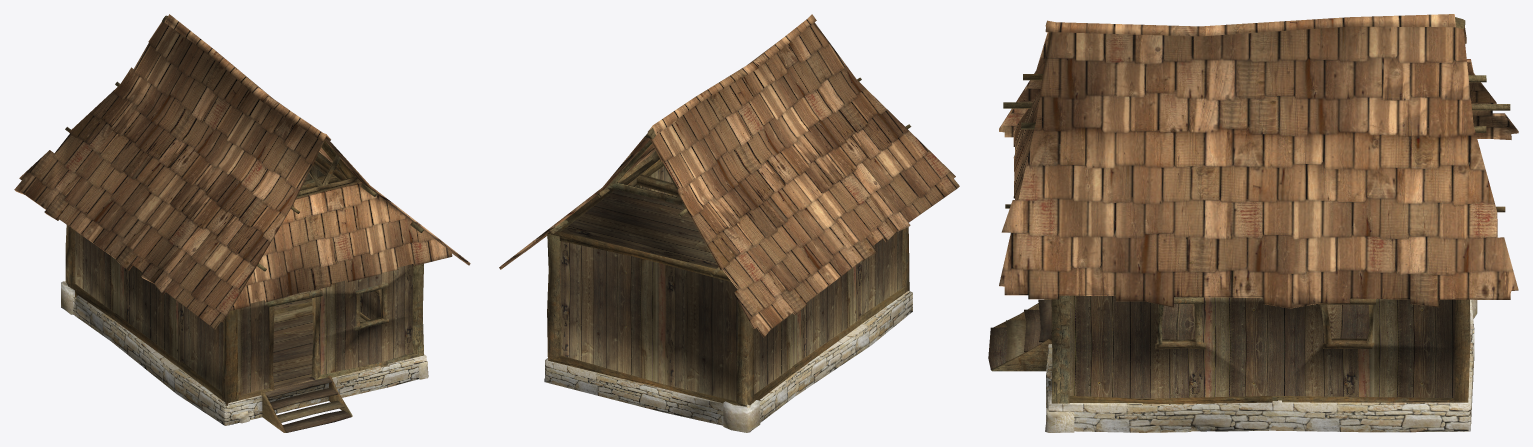
File: woodenCabin.FBX
3 views of the same model, side by side, from view 1: azimuth 30°, elevation 25°; view 2: azimuth 150°, elevation 25°; view 3: azimuth 270°, elevation 25° (orthographic). The views are drawn at different scales.
Visible parts, largest first — view 1: Roof, WoodCabin; view 2: Roof, WoodCabin; view 3: Roof, WoodCabin.
Boxes of the visible parts, x1,y1,x2,y2 form: Roof: (14, 14, 470, 329); WoodCabin: (61, 160, 428, 432); Roof: (499, 14, 959, 337); WoodCabin: (544, 159, 912, 432); Roof: (999, 14, 1518, 308); WoodCabin: (988, 295, 1477, 432).
Size of the model in its own units: 26.23 by 25.51 by 34.61.
Materials: 1 (1 with a texture image).
